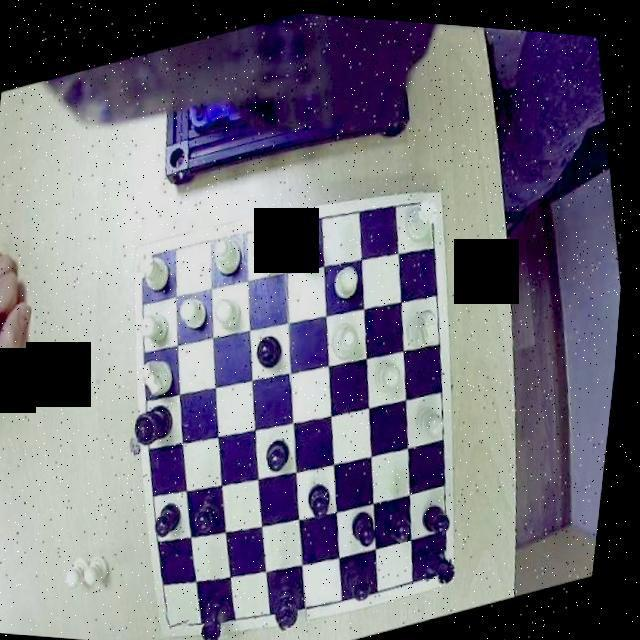chess-table-corners: (408, 181, 446, 221), (428, 544, 463, 584), (138, 235, 174, 272), (169, 600, 201, 638)
